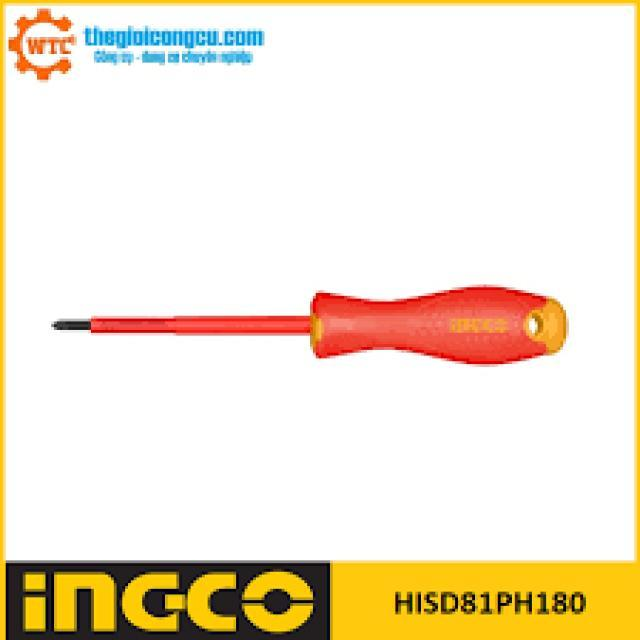screwdriver: (32, 286, 578, 368)
